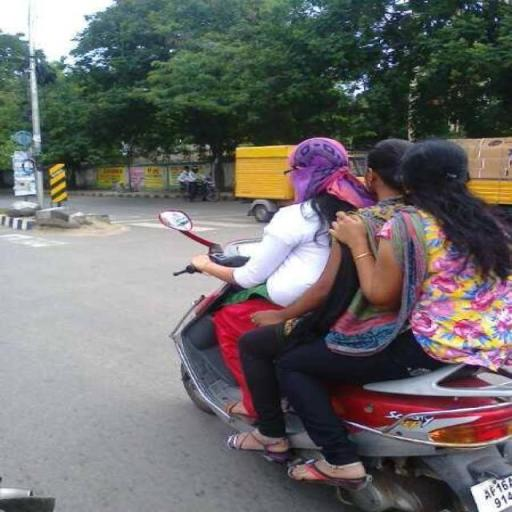tripple riding: (146, 96, 512, 487)
